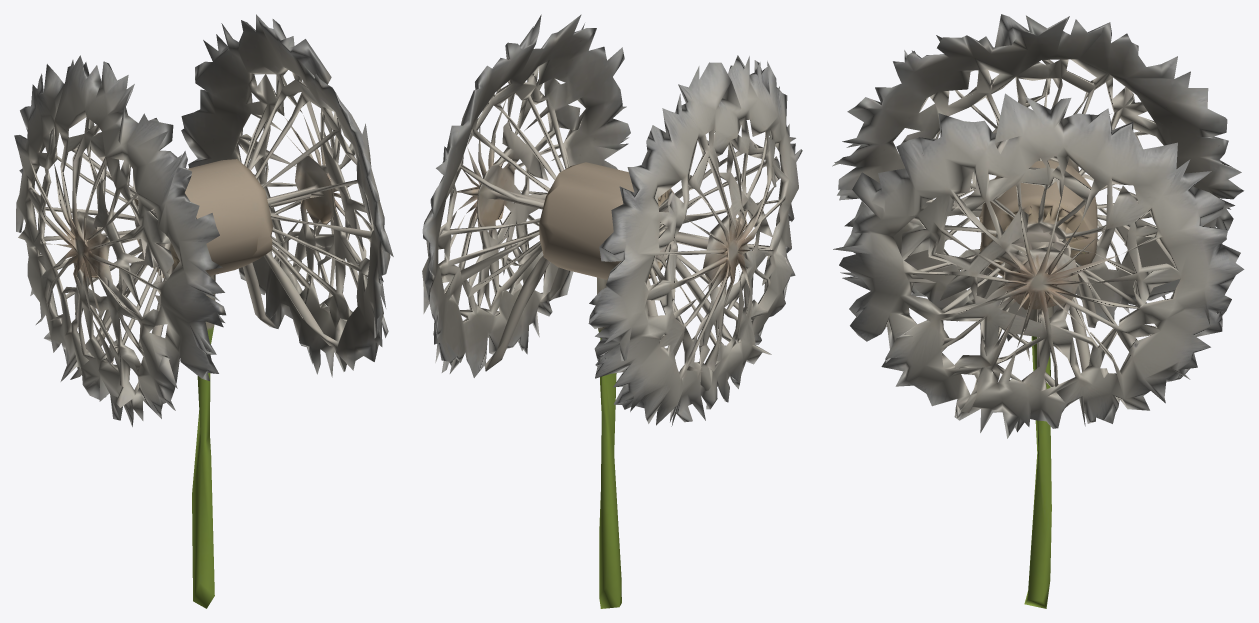
File: dandelion_h3.glb
The picture shows the model from 3 angles, left to right: view 1: azimuth 30°, elevation 25°; view 2: azimuth 150°, elevation 25°; view 3: azimuth 270°, elevation 25°; orthographic projection.
Visible parts, largest first — view 1: tripo_node_e0ad2683-814b-49c5-9c07-e046aa0ed61d; view 2: tripo_node_e0ad2683-814b-49c5-9c07-e046aa0ed61d; view 3: tripo_node_e0ad2683-814b-49c5-9c07-e046aa0ed61d.
Boxes of the visible parts, x1,y1,x2,y2 form: tripo_node_e0ad2683-814b-49c5-9c07-e046aa0ed61d: [14, 14, 393, 608]; tripo_node_e0ad2683-814b-49c5-9c07-e046aa0ed61d: [422, 14, 802, 608]; tripo_node_e0ad2683-814b-49c5-9c07-e046aa0ed61d: [832, 14, 1244, 608].
Size of the model in its own units: 0.4779 by 1 by 0.6755.
Materials: 1 (1 with a texture image).
